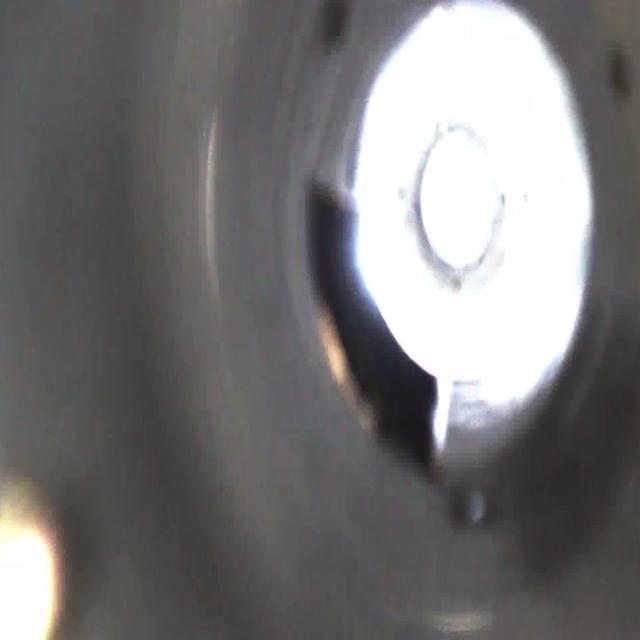hole: (290, 159, 458, 509)
